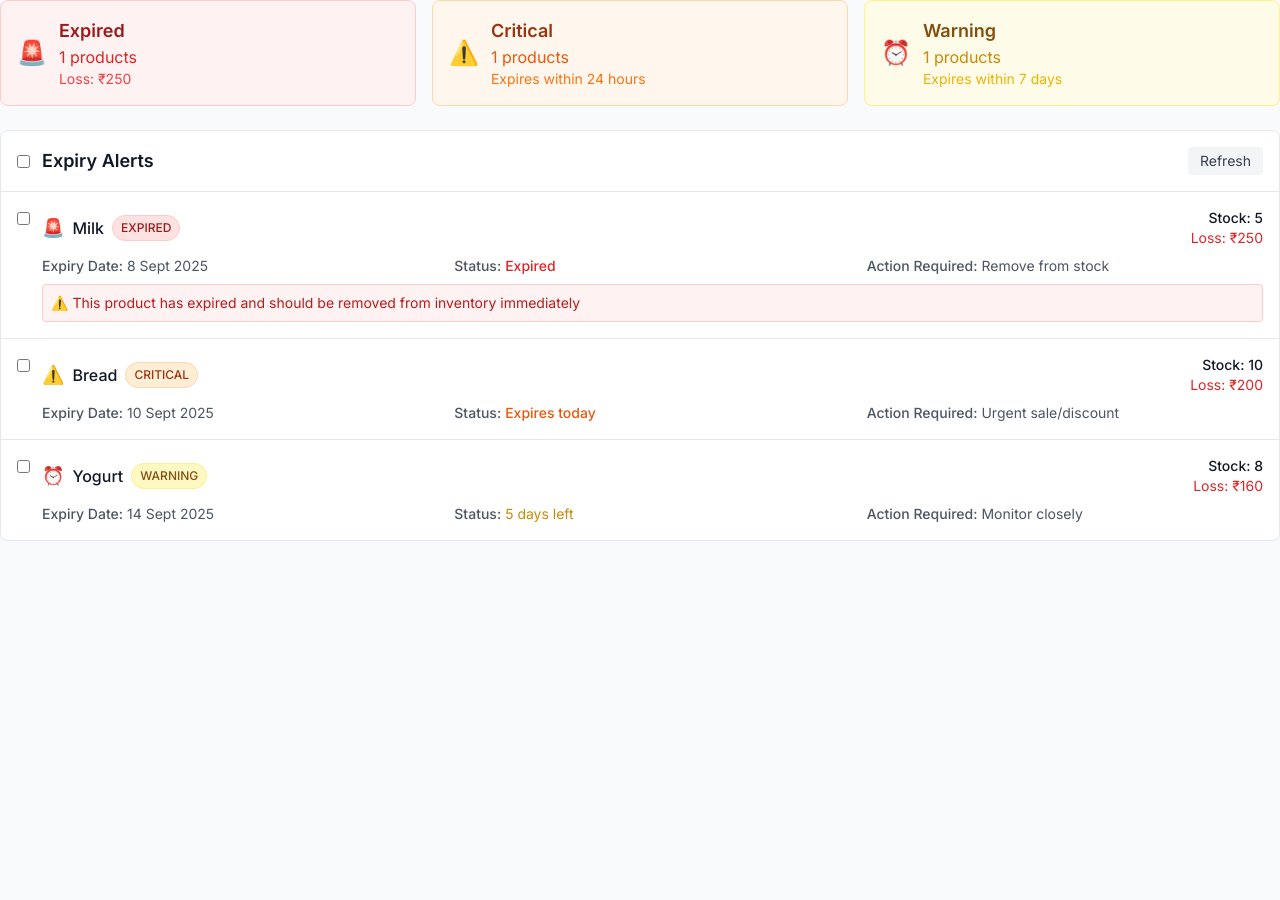
Test case: ExpiryTrackingPanel › should handle select all functionality
The width and height of the screenshot is (1280, 900).
Click the checkbox next to "Expiry Alerts". click: (24, 161)
box: [17,154,30,168]
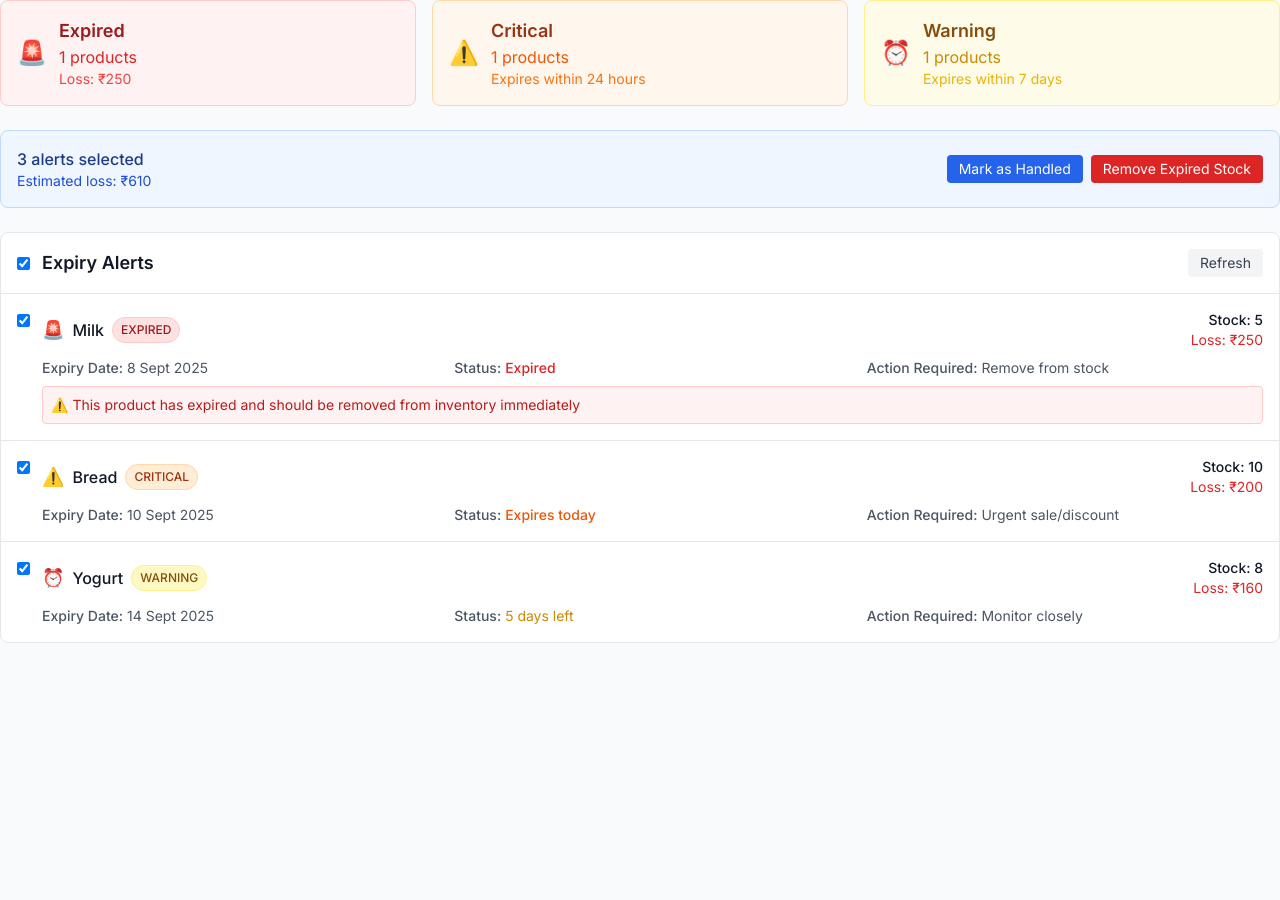
Result: the heading "3 alerts selected" is shown at [17,147,151,171]
